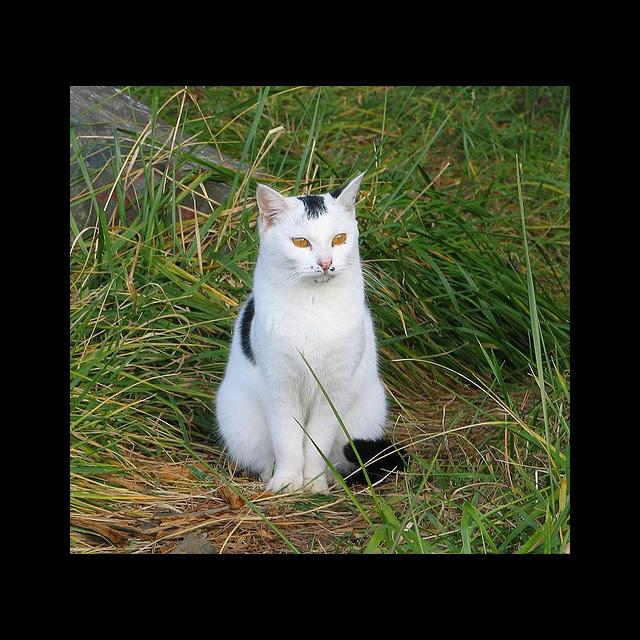animals: (259, 173, 363, 269)
